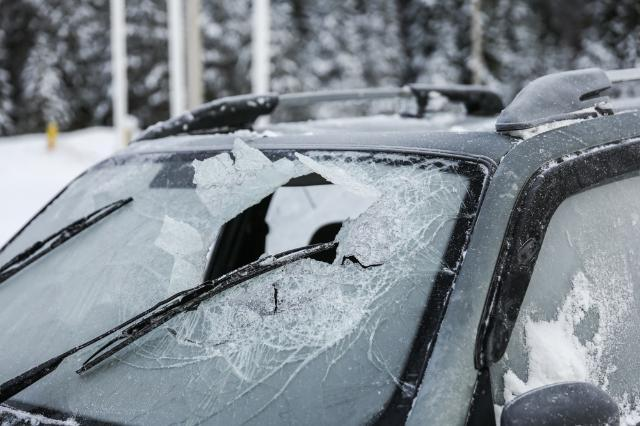glass shatter: (0, 150, 491, 426)
